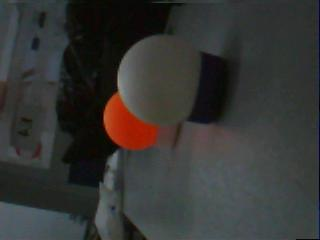oball: (104, 93, 156, 151)
